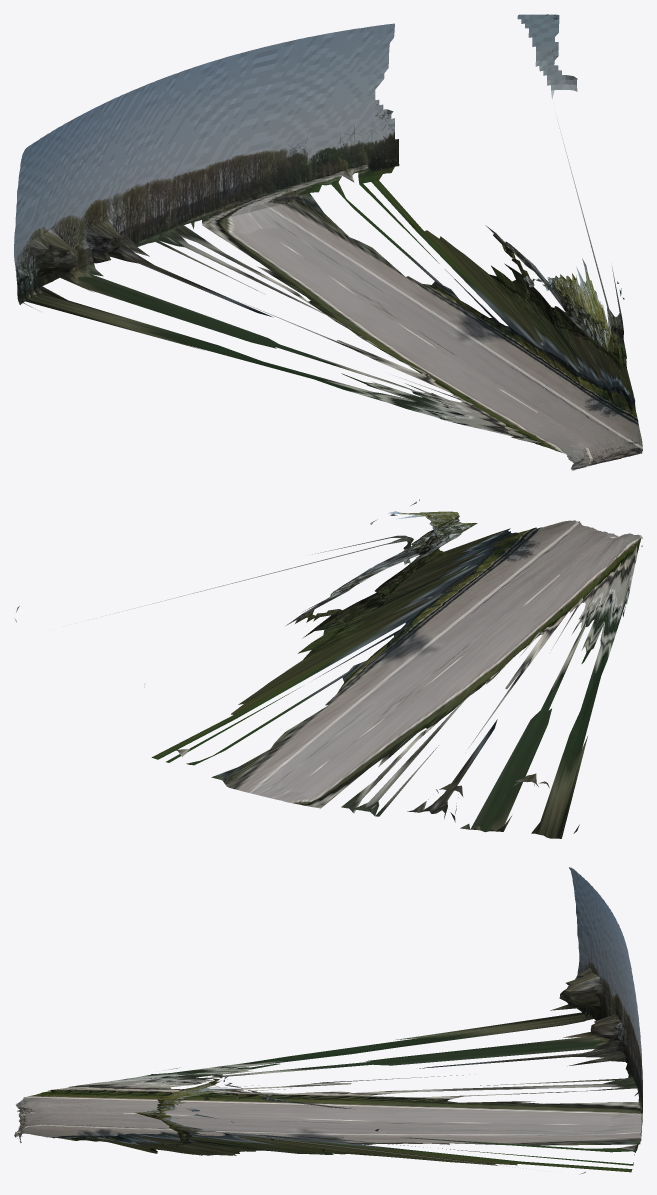
3 views of the same model, one above another, from view 1: azimuth 30°, elevation 25°; view 2: azimuth 150°, elevation 25°; view 3: azimuth 270°, elevation 25° (orthographic). The views are drawn at different scales.
Parts seen in each view (by area): view 1: defaultobject; view 2: defaultobject; view 3: defaultobject.
Boxes of the visible parts, x1,y1,x2,y2 form: defaultobject: [14, 14, 642, 470]; defaultobject: [14, 499, 642, 838]; defaultobject: [14, 867, 642, 1174].
Size of the model in its own units: 41.03 by 12.01 by 44.35.
Materials: 1 (1 with a texture image).
